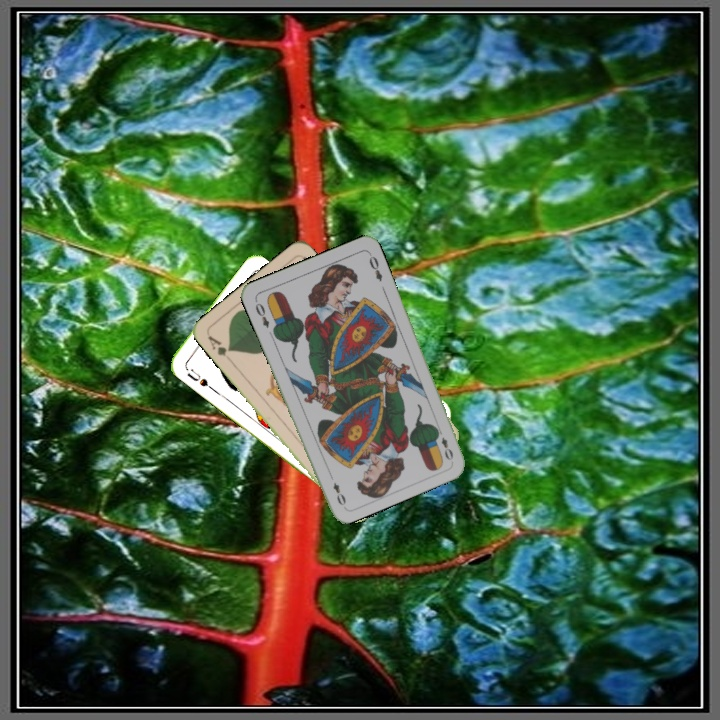EO: (433, 424, 456, 463), (251, 299, 272, 331)
GA: (204, 331, 234, 359)
SU: (181, 362, 215, 392)
